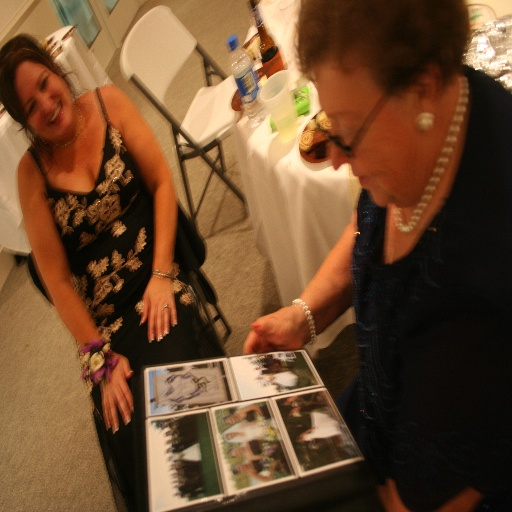hand: (238, 294, 329, 359), (96, 348, 134, 435), (138, 272, 178, 345)
